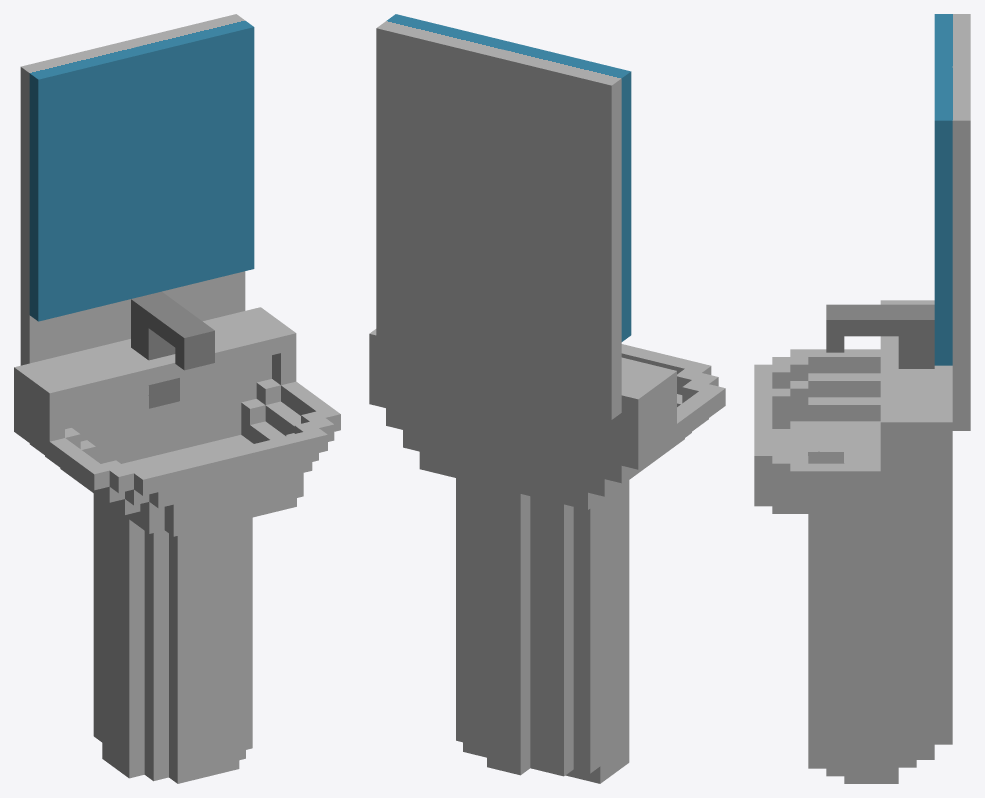
File: Wash.glb
3 views of the same model, side by side, from view 1: azimuth 30°, elevation 25°; view 2: azimuth 150°, elevation 25°; view 3: azimuth 270°, elevation 25° (orthographic). The views are drawn at different scales.
Parts seen in each view (by area): view 1: pl0; view 2: pl0; view 3: pl0.
Part boxes in pixels (bbox=[...]): pl0: bbox=[14, 14, 340, 783]; pl0: bbox=[369, 14, 725, 783]; pl0: bbox=[754, 14, 970, 783].
Bounding box in the file's own units: 1.6 × 4.2 × 1.2.
1 material, 1 textured.
